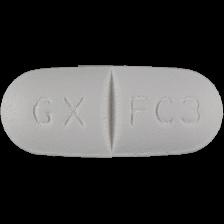49702-202: (0, 0, 224, 224)
